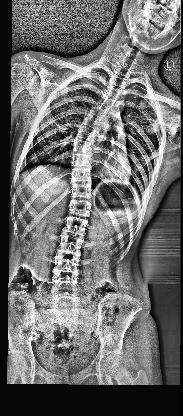Vertebrae: (56, 232, 86, 260), (50, 290, 82, 310), (52, 257, 82, 278), (51, 274, 81, 294), (61, 216, 88, 236), (68, 198, 92, 218), (70, 167, 94, 183), (69, 184, 93, 200), (72, 152, 94, 168), (74, 139, 94, 156), (82, 114, 102, 130), (77, 127, 97, 143), (98, 93, 116, 110), (90, 103, 109, 119), (106, 84, 123, 98)
